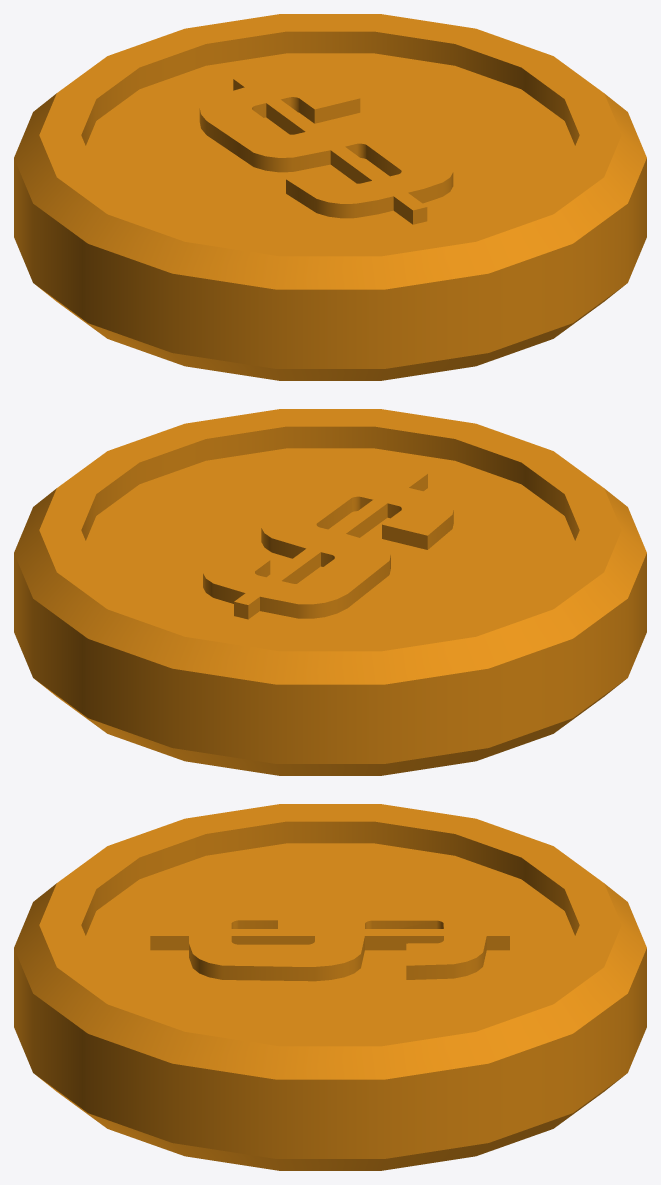
File: coin_new3.glb
3 views of the same model, one above another, from view 1: azimuth 30°, elevation 25°; view 2: azimuth 150°, elevation 25°; view 3: azimuth 270°, elevation 25° (orthographic).
Visible parts, largest first — view 1: Coin_new; view 2: Coin_new; view 3: Coin_new.
Boxes of the visible parts, x1,y1,x2,y2 form: Coin_new: (14, 14, 646, 380); Coin_new: (14, 409, 646, 775); Coin_new: (14, 804, 646, 1170).
Size of the model in its own units: 1.97 by 0.4341 by 2.
